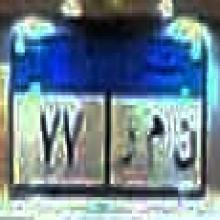7: (61, 109, 87, 169), (39, 108, 61, 162)
meem: (144, 113, 167, 169)
noon: (169, 118, 199, 172)
raa: (117, 127, 138, 173)
